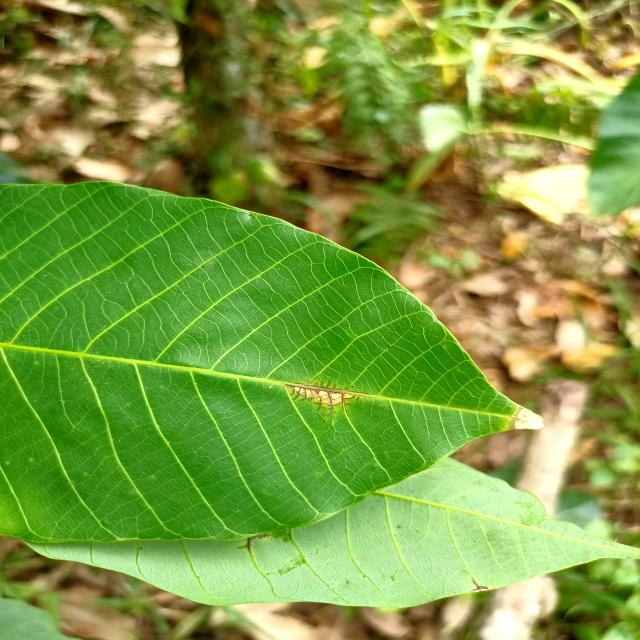Corynespora: (284, 376, 376, 417)
